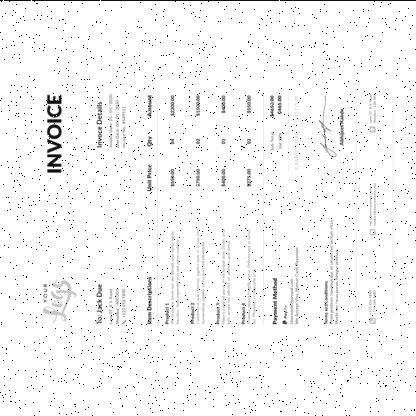Paragraph: (94, 91, 128, 149), (322, 217, 340, 325), (94, 281, 128, 325), (46, 92, 64, 173), (268, 93, 284, 151), (289, 244, 300, 324), (292, 92, 300, 170), (368, 180, 378, 226), (272, 275, 280, 325), (368, 92, 378, 123), (368, 288, 378, 314)
Table: (142, 92, 264, 326)
